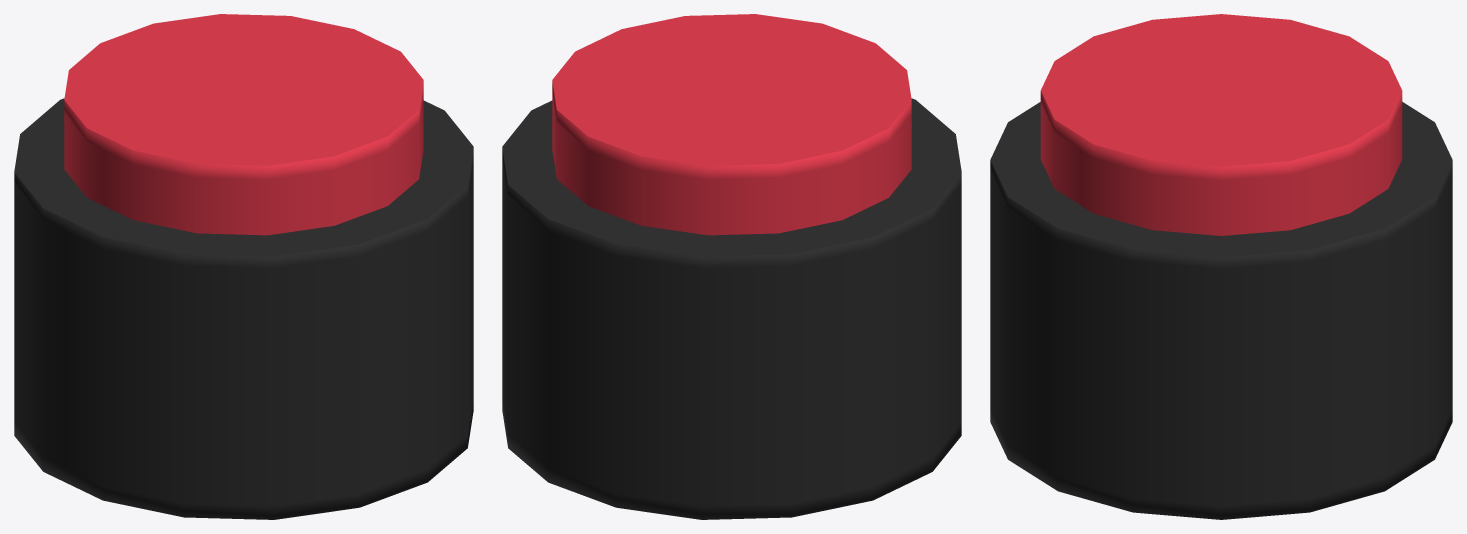
The model's file is SmallButton.fbx.
The picture shows the model from 3 angles, left to right: view 1: azimuth 30°, elevation 25°; view 2: azimuth 150°, elevation 25°; view 3: azimuth 270°, elevation 25°; orthographic projection.
Parts seen in each view (by area): view 1: Frame, Button; view 2: Frame, Button; view 3: Frame, Button.
Boxes of the visible parts, left/top/right/bottom form: Frame: left=14, top=98, right=473, bottom=519; Button: left=64, top=14, right=423, bottom=235; Frame: left=502, top=98, right=961, bottom=519; Button: left=552, top=14, right=911, bottom=235; Frame: left=990, top=102, right=1452, bottom=519; Button: left=1040, top=14, right=1402, bottom=235.
Bounding box in the file's own units: 4 × 3.17 × 4.
